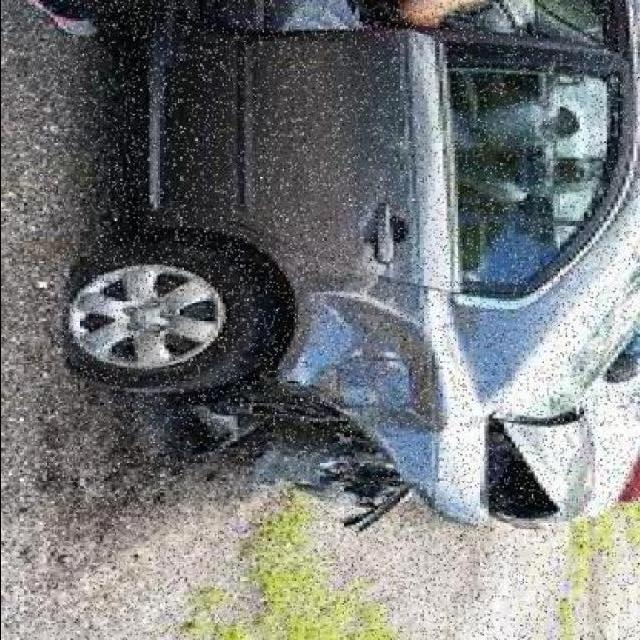quaterpanel-dent: (267, 286, 477, 440)
